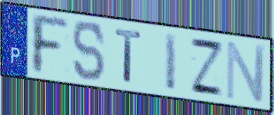F: (29, 11, 71, 77)
I: (163, 31, 179, 93)
N: (225, 39, 267, 103)
S: (71, 20, 107, 83)
T: (114, 27, 144, 86)
Z: (188, 35, 225, 99)
